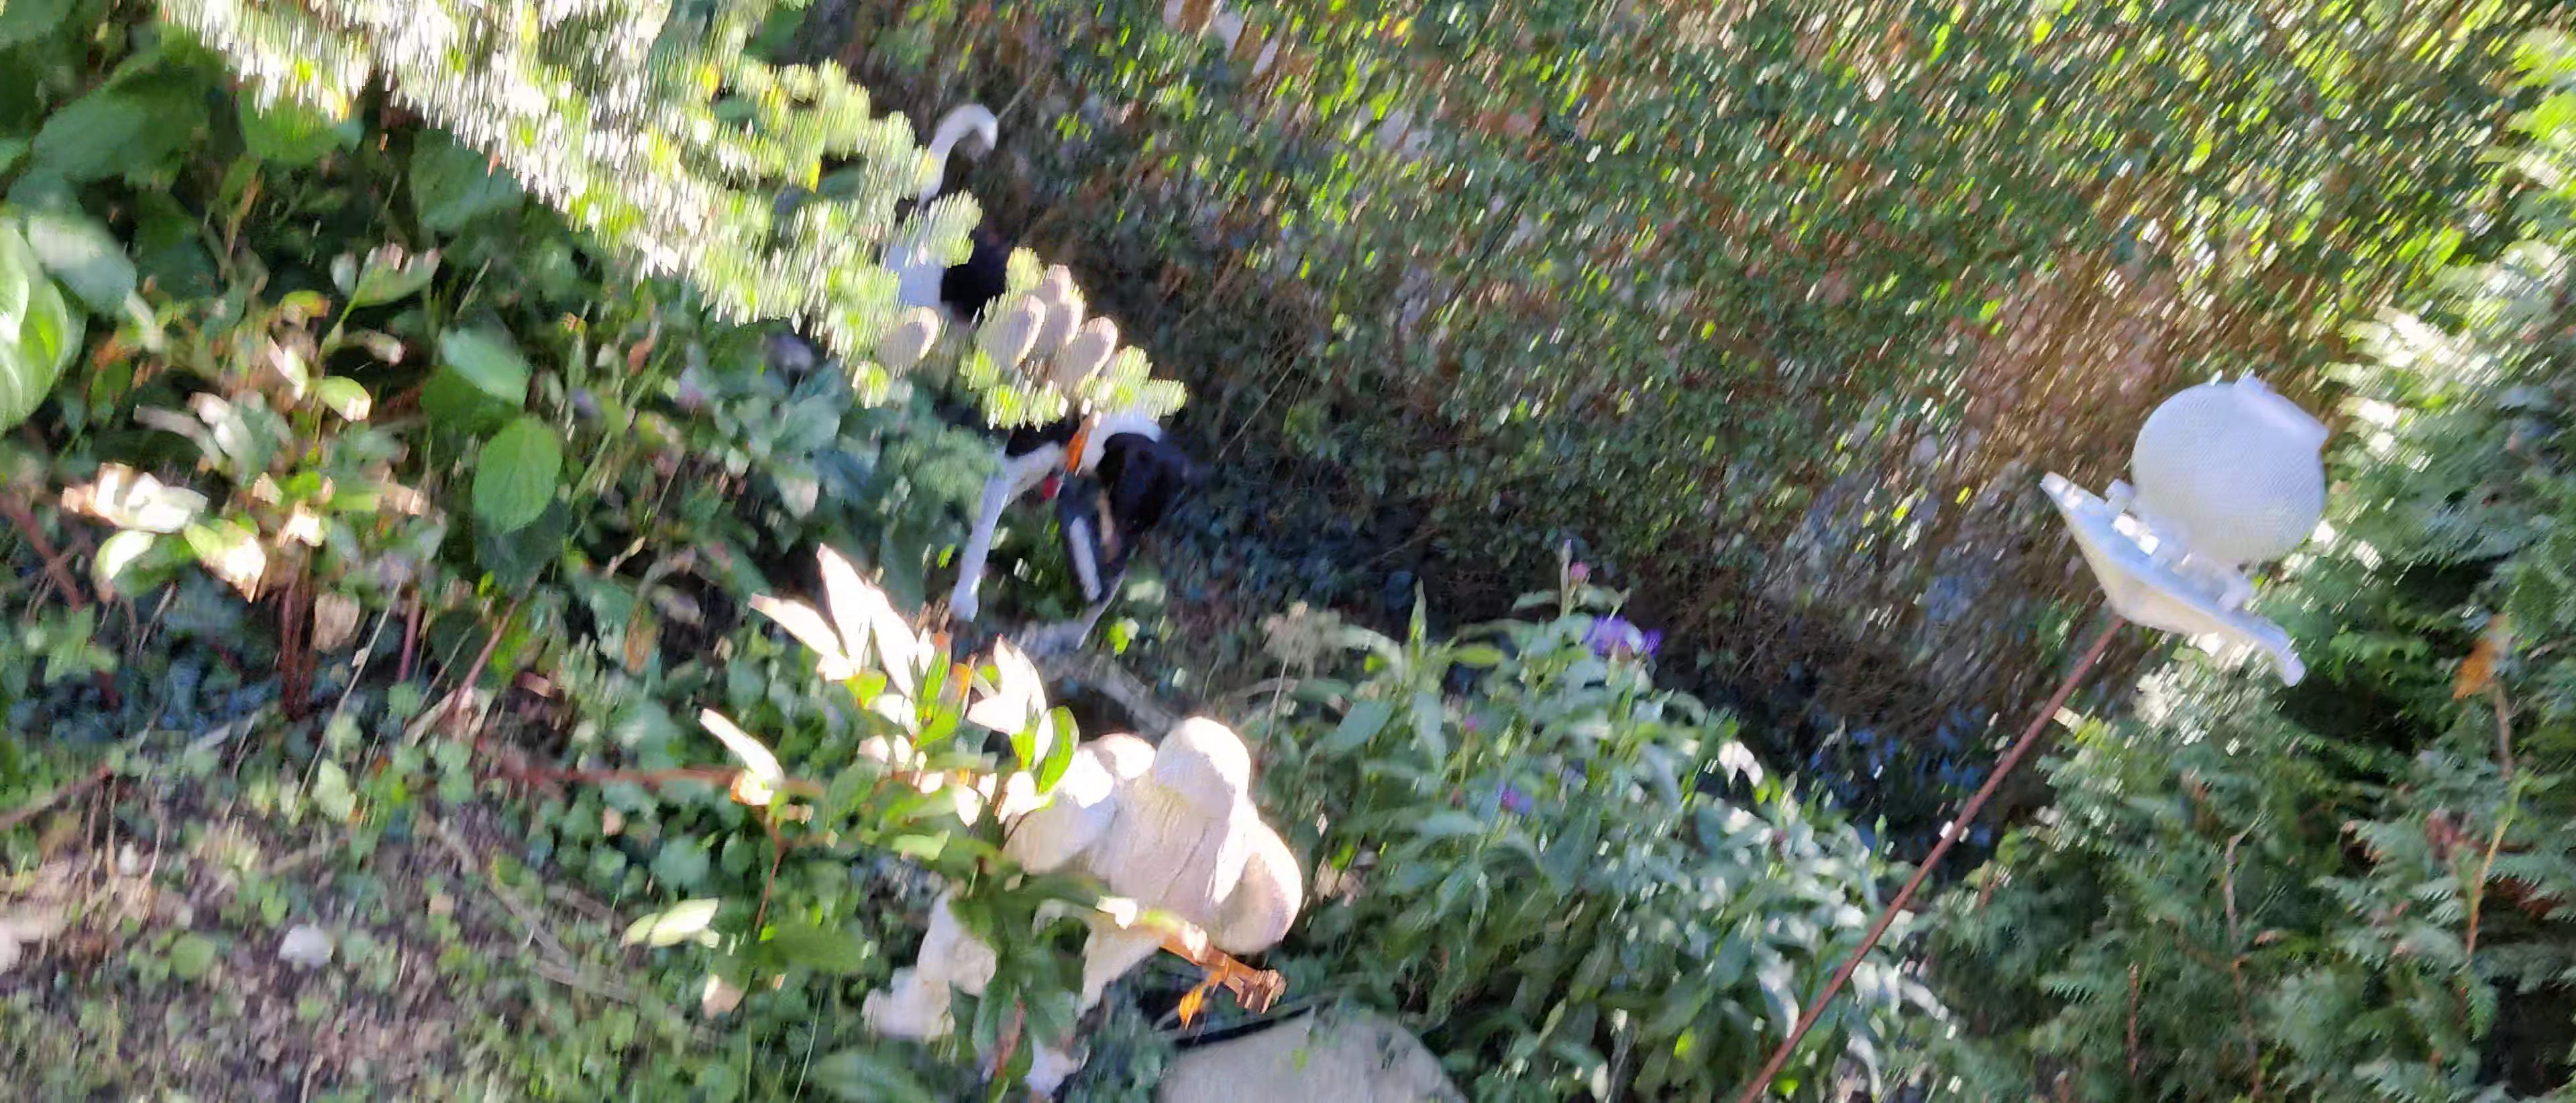Dog: (889, 99, 1211, 626)
